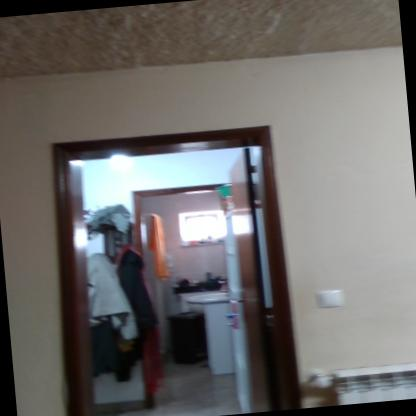open: (30, 101, 314, 415)
